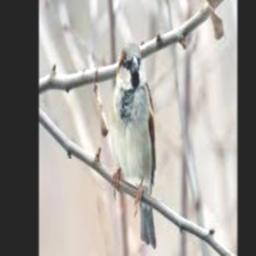Sparrow: (112, 41, 157, 248)
